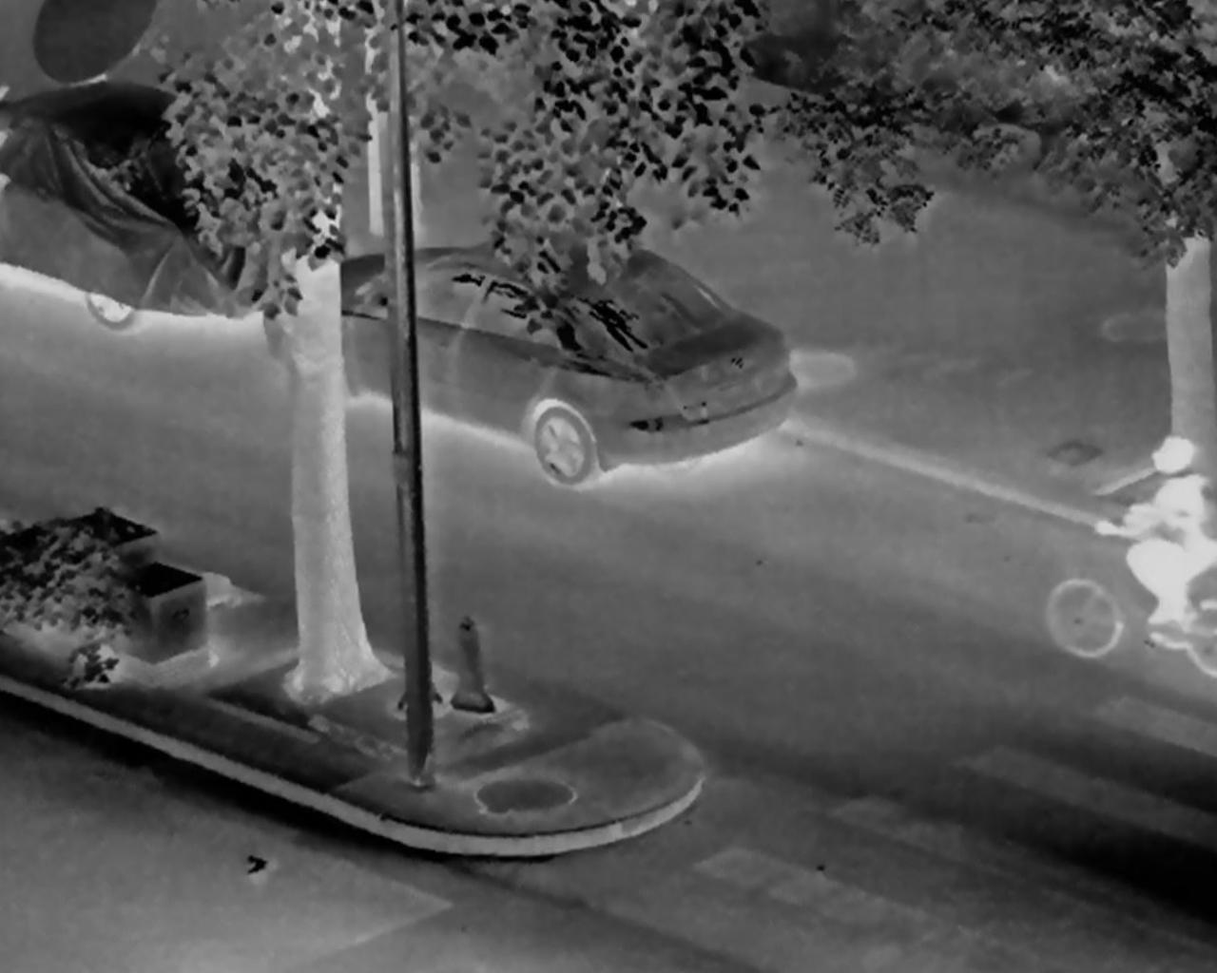person: (1092, 436, 1217, 630)
